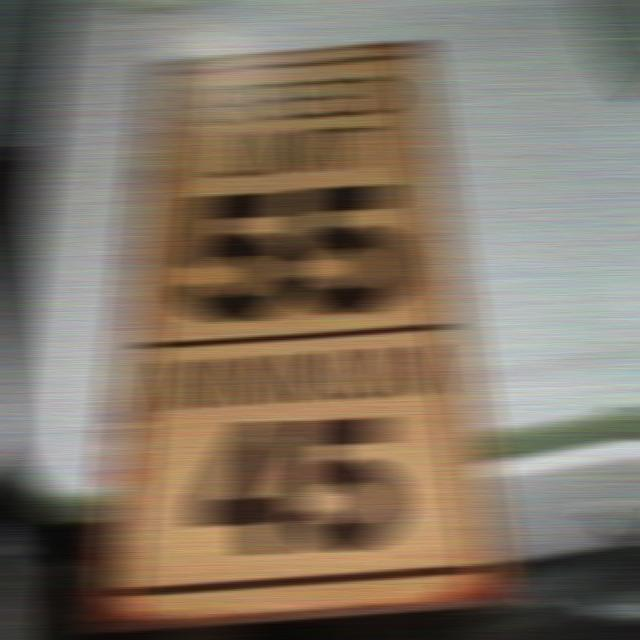speedLimit55: (143, 53, 470, 581)
